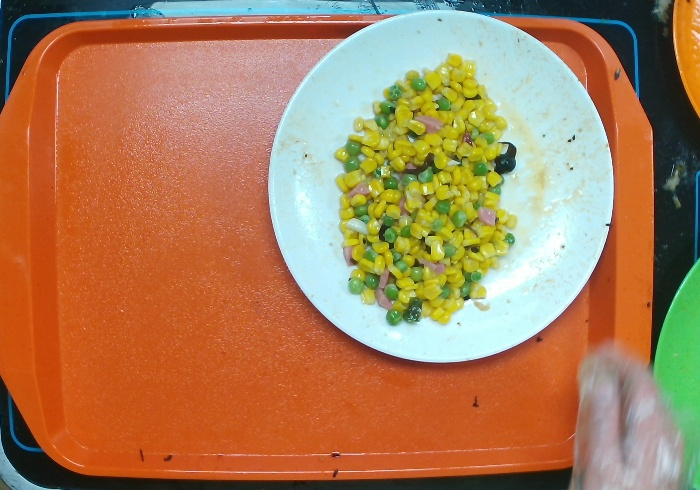HZYJPL-Bai_Se_Yuan_Pan: (268, 14, 615, 365)
